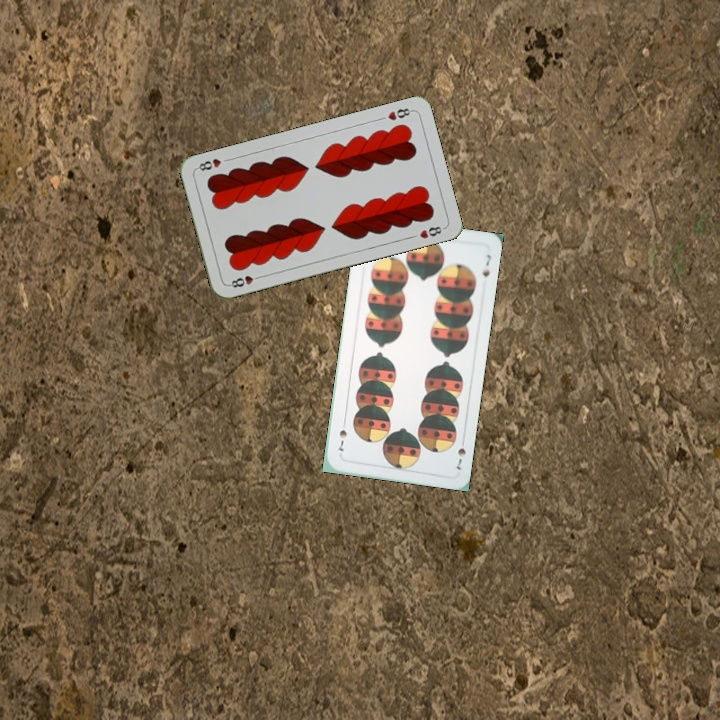H8: (225, 271, 265, 290), (384, 104, 416, 123)
S7: (452, 434, 468, 472)
